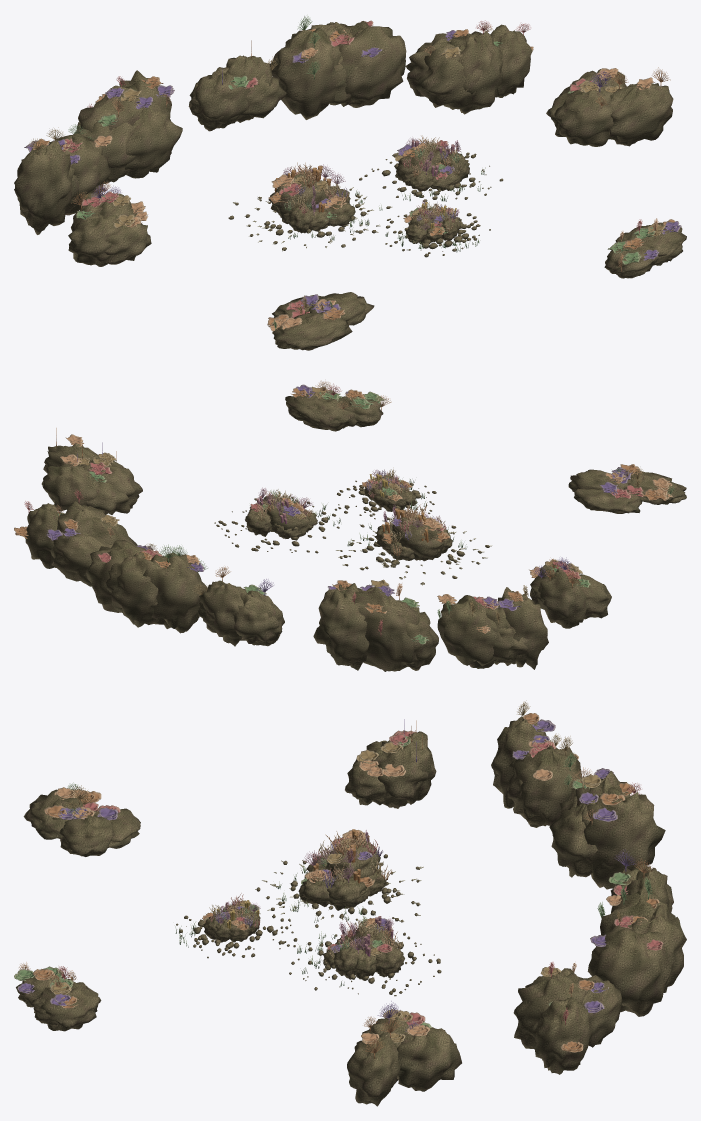
Rendered from reef-habitat.glb.
3 views of the same model, one above another, from view 1: azimuth 30°, elevation 25°; view 2: azimuth 150°, elevation 25°; view 3: azimuth 270°, elevation 25° (orthographic). The views are drawn at different scales.
Parts seen in each view (by area): view 1: reef-distant-ridge, reef-ridge-growth, reef-limestone-1, reef-living-cover-1, reef-foot-rubble, reef-limestone-2, reef-living-cover-2, reef-limestone-3, reef-living-cover-3, seagrass-meadow; view 2: reef-distant-ridge, reef-ridge-growth, reef-limestone-1, reef-foot-rubble, reef-limestone-2, reef-living-cover-1, reef-living-cover-2, reef-limestone-3, reef-living-cover-3; view 3: reef-distant-ridge, reef-ridge-growth, reef-limestone-1, reef-living-cover-1, reef-limestone-2, reef-foot-rubble, reef-living-cover-2, reef-limestone-3, reef-living-cover-3.
Part boxes in pixels (left/top/right/bottom): reef-distant-ridge: left=14, top=21, right=686, bottom=350; reef-ridge-growth: left=24, top=16, right=681, bottom=331; reef-limestone-1: left=268, top=171, right=355, bottom=233; reef-living-cover-1: left=268, top=162, right=349, bottom=220; reef-foot-rubble: left=228, top=152, right=503, bottom=257; reef-limestone-2: left=396, top=146, right=469, bottom=191; reef-living-cover-2: left=394, top=135, right=461, bottom=179; reef-limestone-3: left=406, top=208, right=460, bottom=244; reef-living-cover-3: left=403, top=200, right=459, bottom=236; seagrass-meadow: left=288, top=167, right=485, bottom=252; reef-distant-ridge: left=24, top=392, right=686, bottom=671; reef-ridge-growth: left=14, top=380, right=673, bottom=644; reef-limestone-1: left=375, top=517, right=452, bottom=561; reef-foot-rubble: left=214, top=480, right=489, bottom=584; reef-limestone-2: left=245, top=495, right=317, bottom=538; reef-living-cover-1: left=381, top=503, right=449, bottom=555; reef-living-cover-2: left=250, top=487, right=312, bottom=523; reef-limestone-3: left=364, top=475, right=416, bottom=511; reef-living-cover-3: left=362, top=467, right=412, bottom=501; reef-distant-ridge: left=16, top=716, right=686, bottom=1106; reef-ridge-growth: left=14, top=700, right=663, bottom=1058; reef-limestone-1: left=298, top=839, right=387, bottom=910; reef-living-cover-1: left=301, top=829, right=392, bottom=888; reef-limestone-2: left=322, top=924, right=404, bottom=979; reef-foot-rubble: left=176, top=854, right=441, bottom=996; reef-living-cover-2: left=326, top=915, right=402, bottom=959; reef-limestone-3: left=203, top=902, right=260, bottom=942; reef-living-cover-3: left=202, top=893, right=260, bottom=930.
Size of the model in its own units: 78.5 by 12.16 by 66.55.
3 materials, 1 textured.
